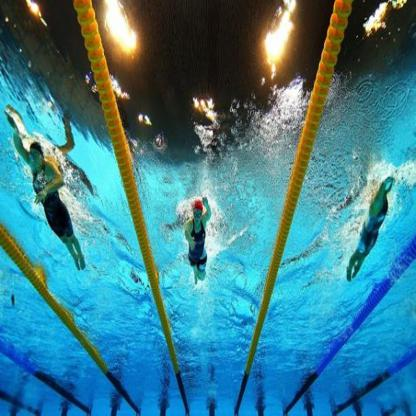face: (30, 150, 41, 169), (193, 209, 203, 226), (377, 215, 386, 225)
